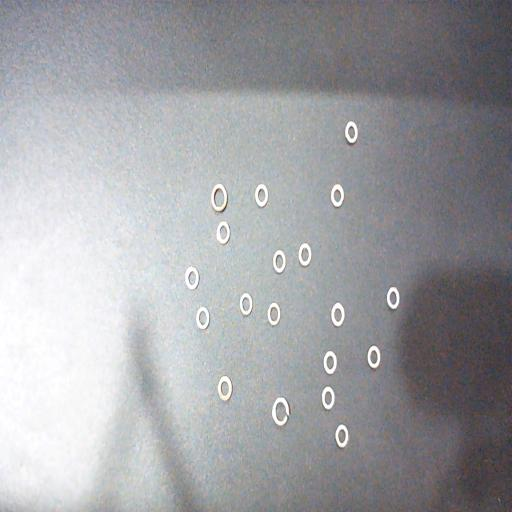washer: (272, 398, 289, 426), (211, 184, 227, 212), (344, 120, 358, 144), (254, 184, 268, 208), (185, 266, 199, 290), (218, 377, 232, 401), (331, 303, 345, 327), (298, 243, 312, 266), (330, 184, 344, 207), (272, 250, 286, 273), (196, 307, 210, 330), (386, 287, 400, 309), (267, 303, 280, 326), (322, 386, 334, 410), (216, 222, 229, 244), (336, 425, 348, 448), (324, 351, 336, 374), (368, 346, 380, 369), (240, 293, 252, 315)
